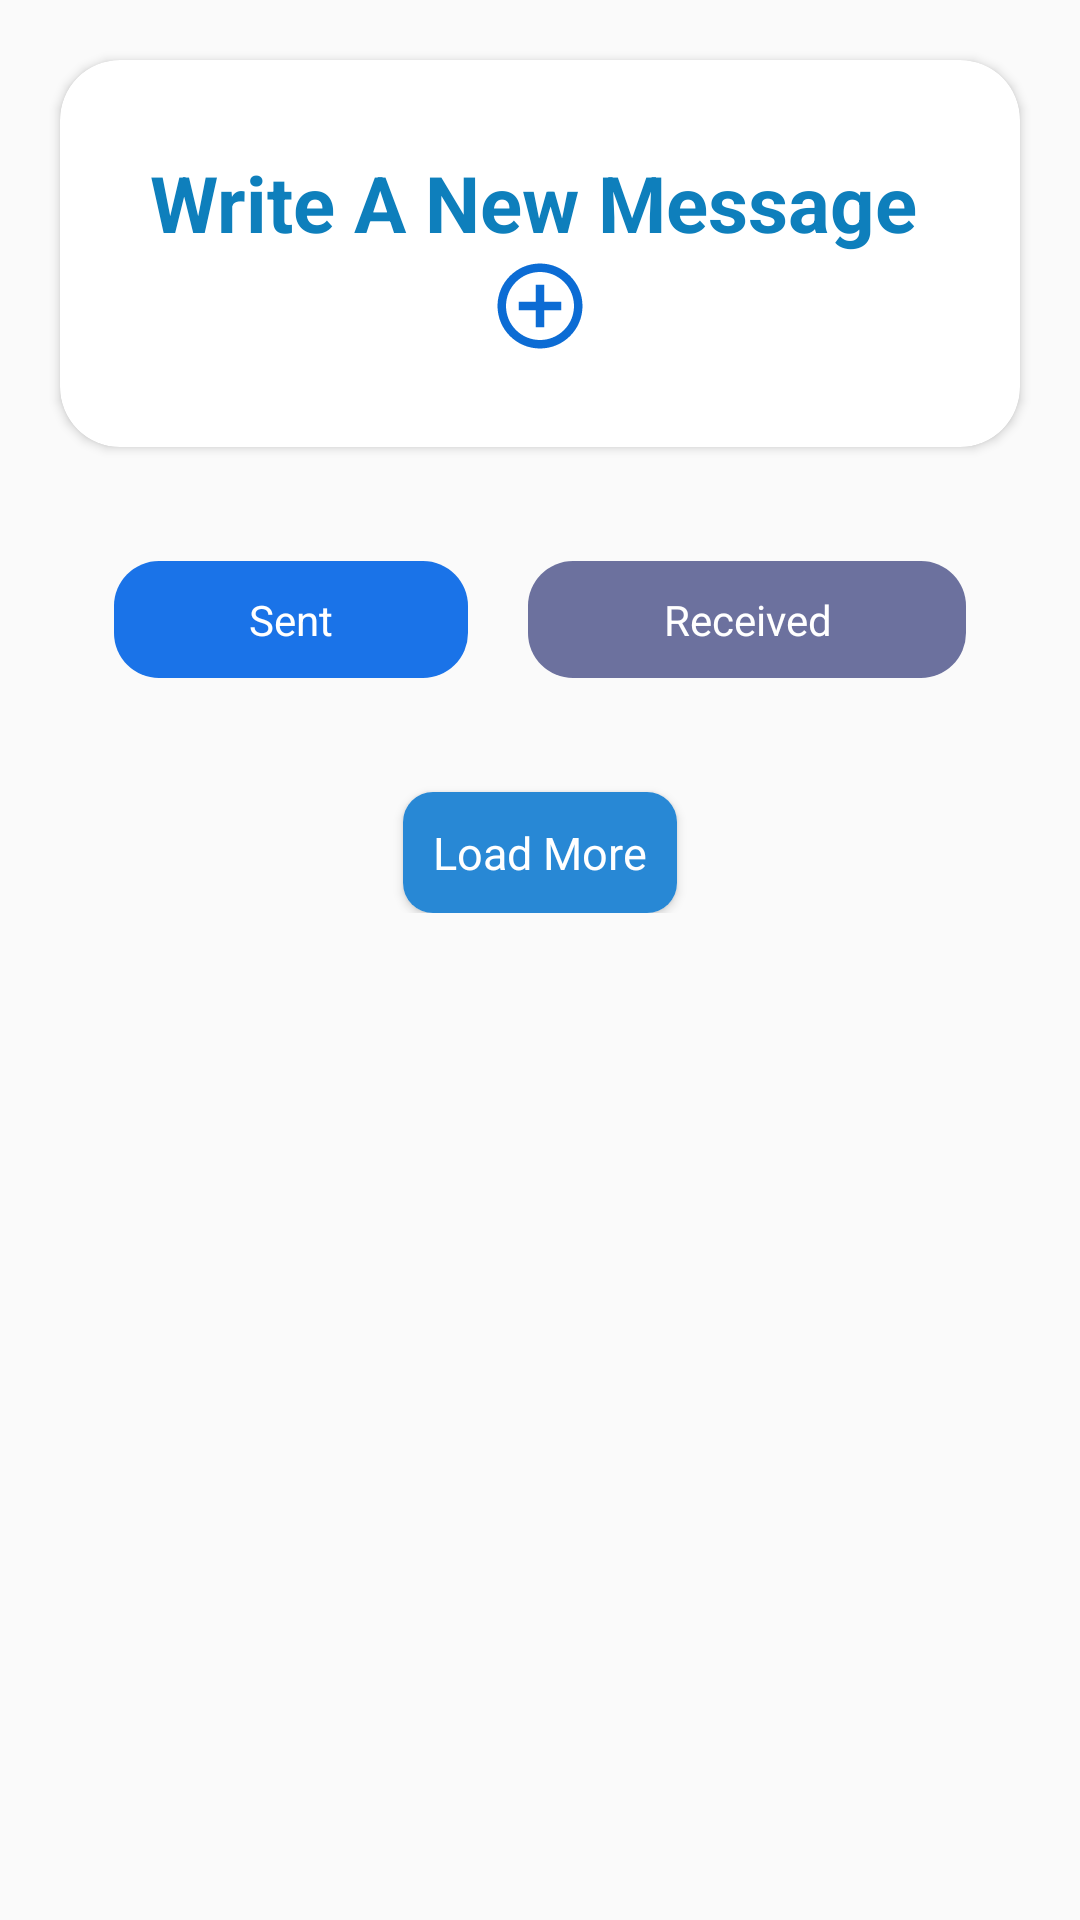

Icons on this 1080w x 1920h Android screen, each with its box as (x1, y1, x2, y2):
add circle: (497, 263, 583, 349)
